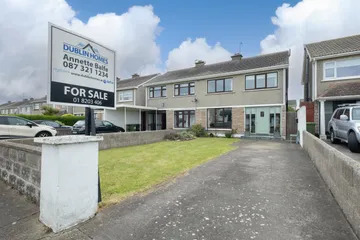property sign: (43, 17, 119, 118)
